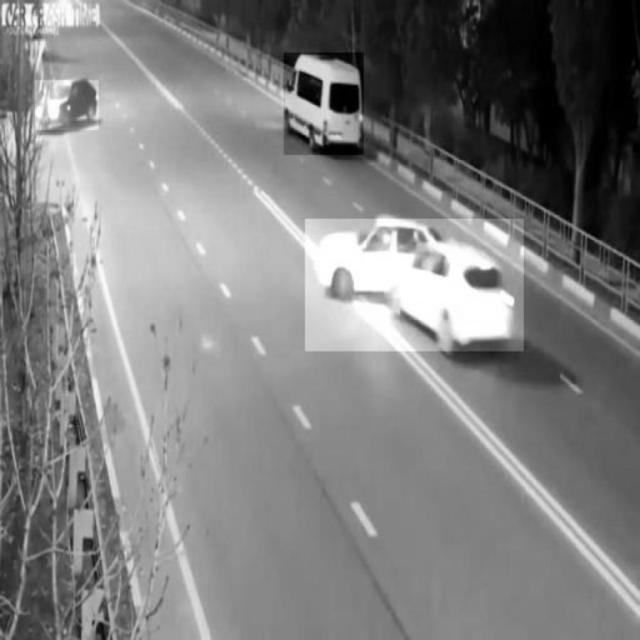accident: (305, 219, 523, 351)
vehicle: (284, 53, 364, 155), (35, 81, 99, 131)
